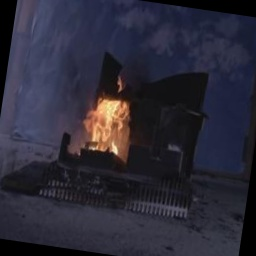fire: (77, 78, 142, 160)
